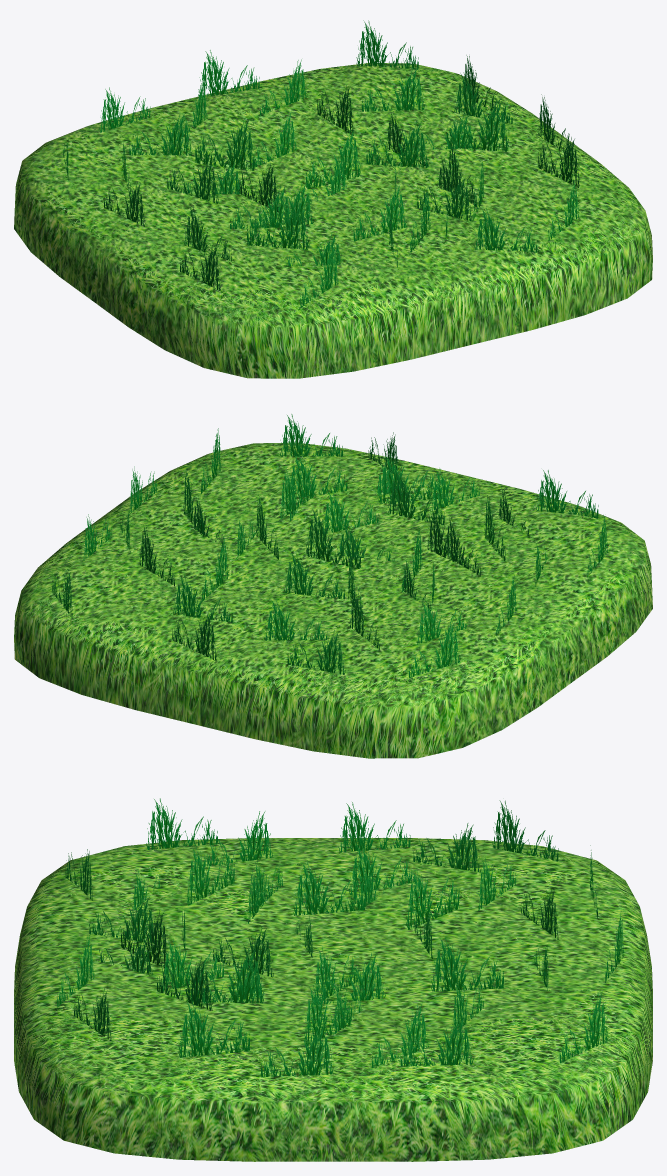
File: grass_patch.fbx
3 renders of one model, top to bottom at view 1: azimuth 30°, elevation 25°; view 2: azimuth 150°, elevation 25°; view 3: azimuth 270°, elevation 25°, orthographic. The views are drawn at different scales.
Visible parts, largest first — view 1: grass_patch; view 2: grass_patch; view 3: grass_patch.
Part boxes in pixels (x1,y1,x2,y2): grass_patch: (14,20,652,378); grass_patch: (14,414,652,758); grass_patch: (14,798,652,1161).
Bounding box in the file's own units: 609 × 143 × 609.
